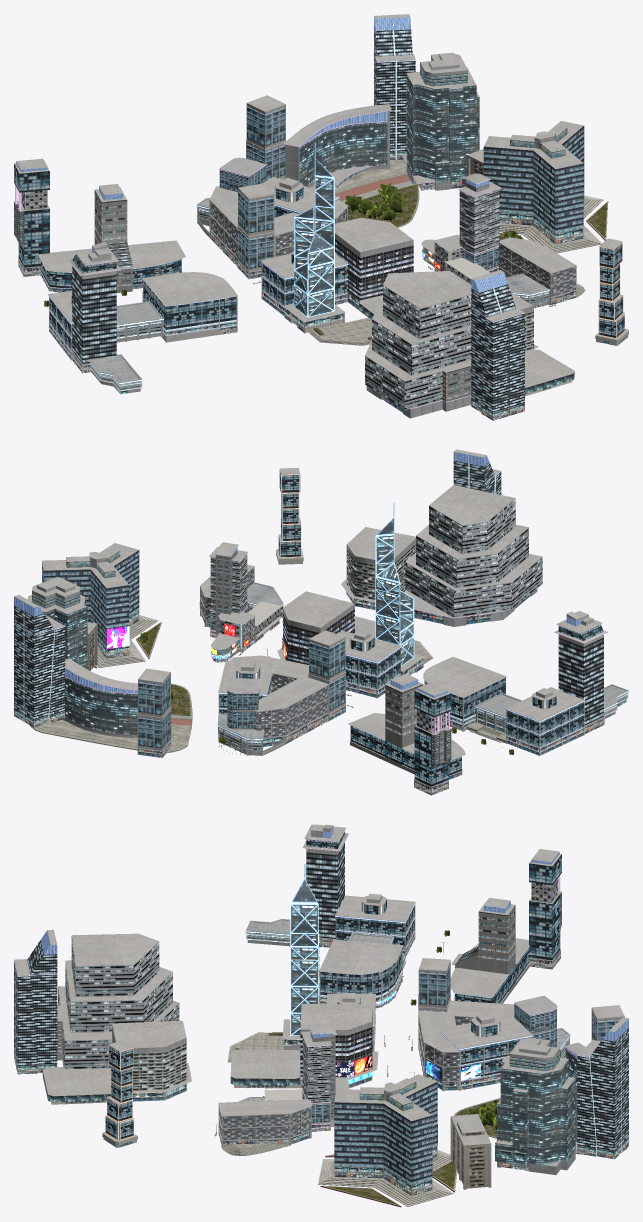
Rendered from Ocean_City01.fbx.
3 renders of one model, top to bottom at view 1: azimuth 30°, elevation 25°; view 2: azimuth 150°, elevation 25°; view 3: azimuth 270°, elevation 25°, orthographic. The views are drawn at different scales.
Parts seen in each view (by area): view 1: MeshBaker__0__mesh_mesh; view 2: MeshBaker__0__mesh_mesh; view 3: MeshBaker__0__mesh_mesh.
Part boxes in pixels (x1=…): MeshBaker__0__mesh_mesh: x1=14, y1=14, x2=628, y2=420; MeshBaker__0__mesh_mesh: x1=14, y1=449, x2=628, y2=795; MeshBaker__0__mesh_mesh: x1=14, y1=824, x2=628, y2=1207.
Size of the model in its own units: 417 by 127 by 389.
